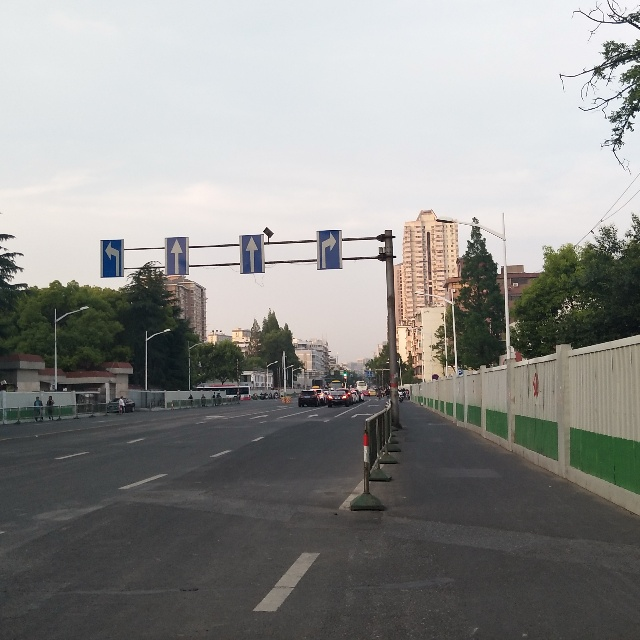left: (98, 239, 128, 278)
right: (317, 229, 345, 270)
straight: (165, 234, 187, 278), (242, 234, 265, 276)
